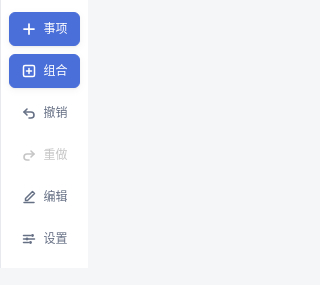
Scenario: RightRail › 撤销 / 重做 在有历史时不再 dimmed，撤销后再次禁用
Note: 撤销后回到无历史
Click the button with test id "undo" at [44, 113], box [9,96,80,130]
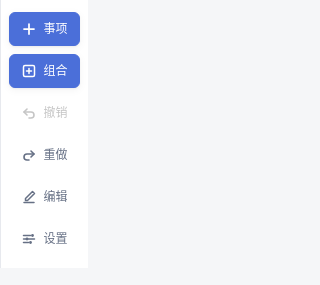
Now the button with test id "undo" is disabled, box [9,96,80,130]
